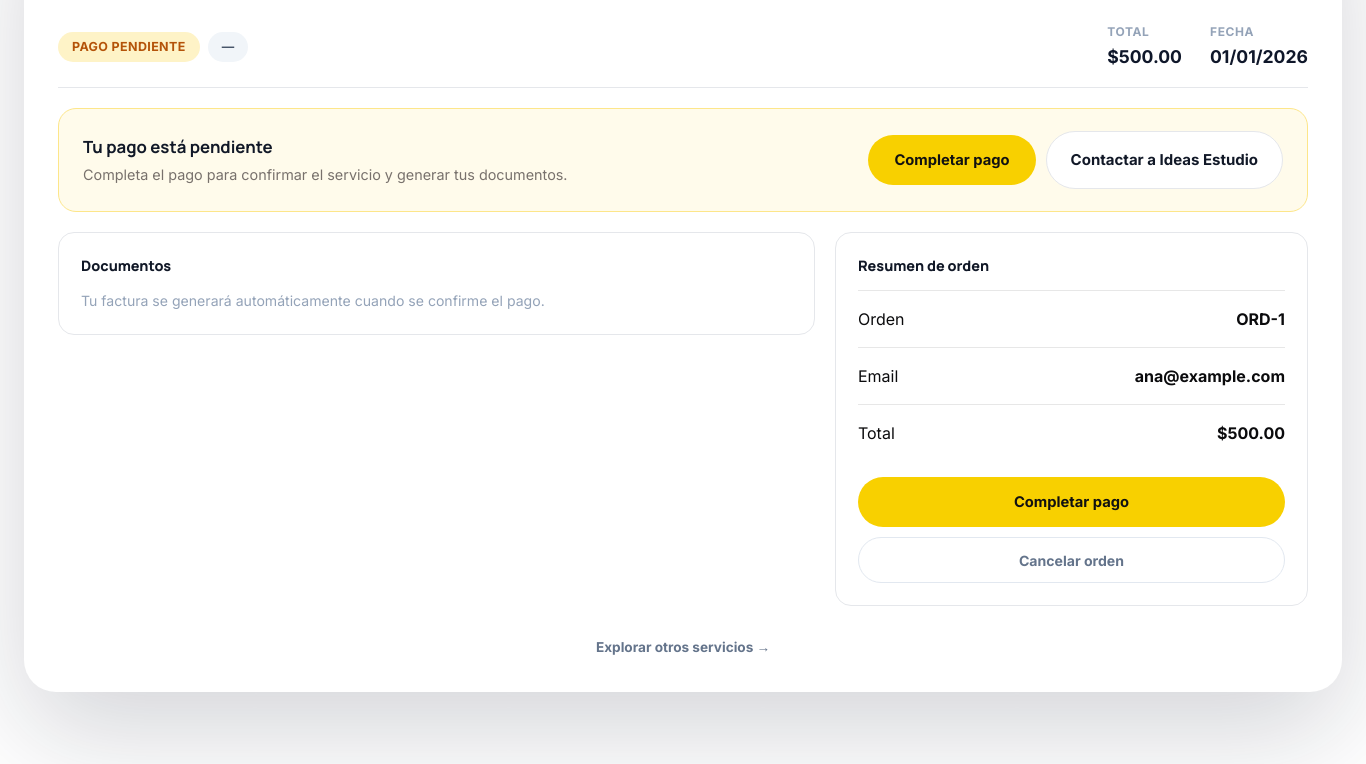
Test: AccountOrderDetailPage — confirmation modal › opens the confirmation modal with the expected title on click
This screenshot has width=1366, height=764.
(page scrolled)
Click the button "Cancelar orden": [1071, 560] box [858,537,1285,583]
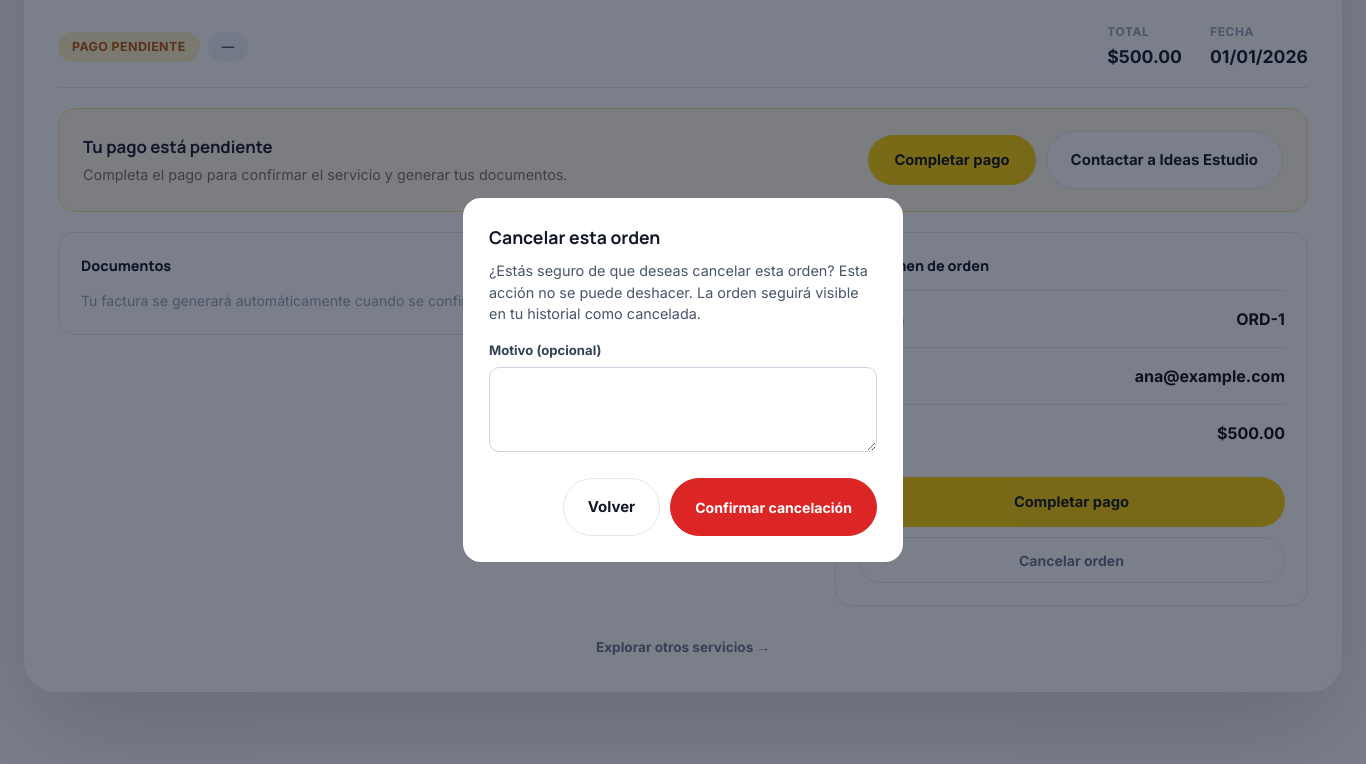
Now the dialog is shown, box [463,198,903,562]
Now the heading "Cancelar esta orden" is shown, box [489,225,660,249]
